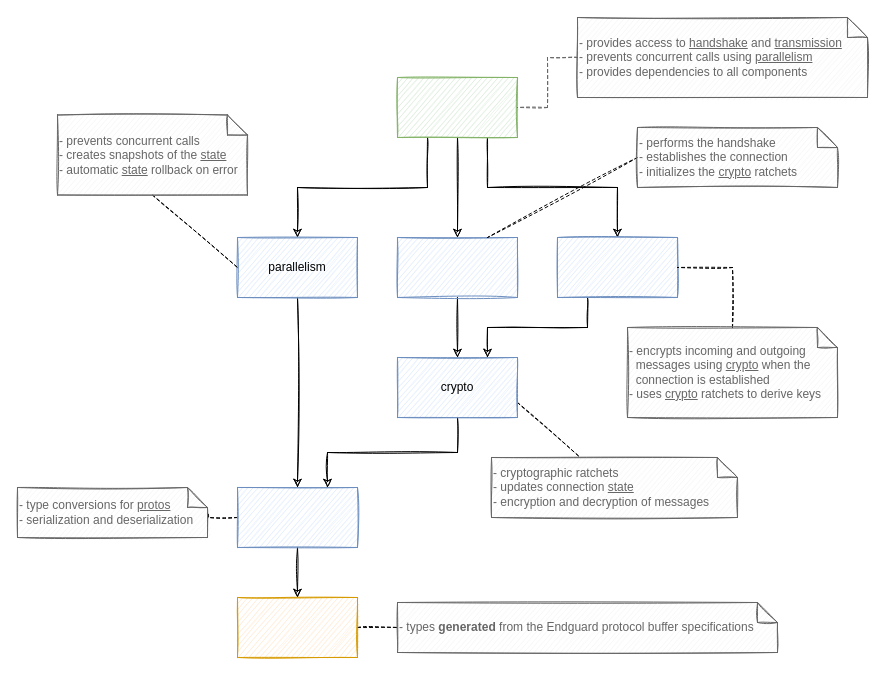
This 885x675 diagram has some shape labels left out. The shapes that lost their labels are listed below. From the top down, each one's centre as x and y in pixels, then its label:
the point at 457,107: connection
the point at 457,267: handshake
the point at 617,267: transmission
the point at 297,517: state
the point at 297,627: protos
